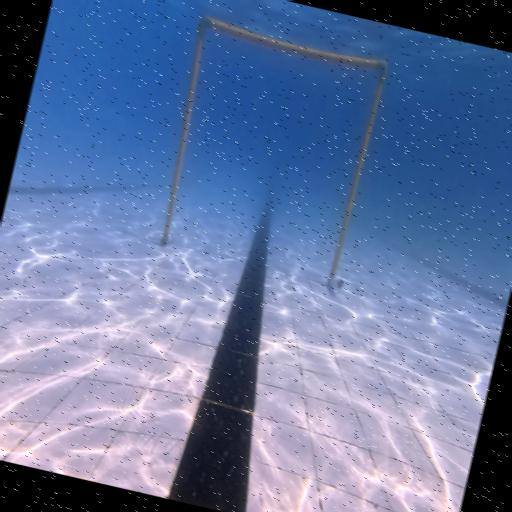gate: (148, 14, 396, 289)
